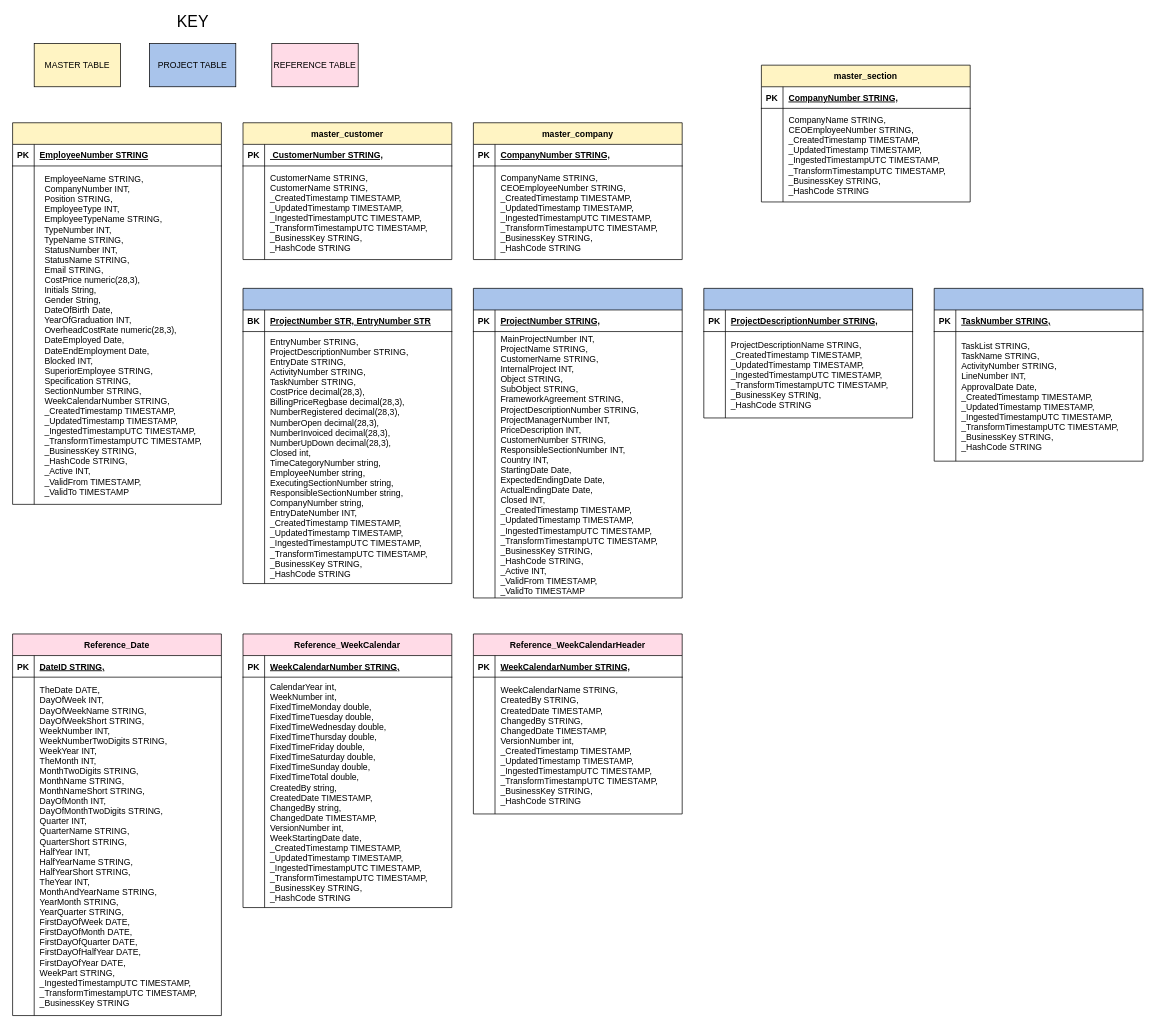
This 1156x1028 diagram has some shape labels left out. The box of each missing label's shape, as (x1, y1, x2, y2) in pixels:
master_employee: (12, 122, 221, 504)
Project_JobDescription: (703, 288, 913, 418)
Project_JobEntry: (242, 288, 452, 584)
Project_JobHeader: (473, 288, 682, 598)
Project_Task: (933, 288, 1143, 461)
